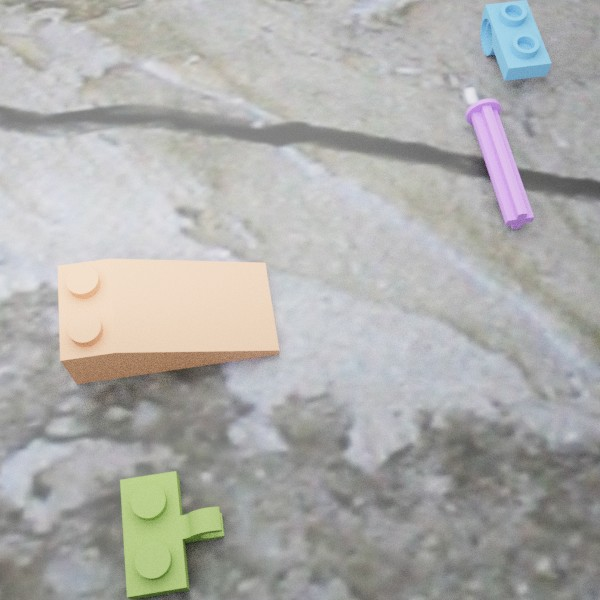lego: (57, 258, 279, 384), (120, 471, 224, 600), (465, 98, 533, 229), (480, 0, 551, 80)
